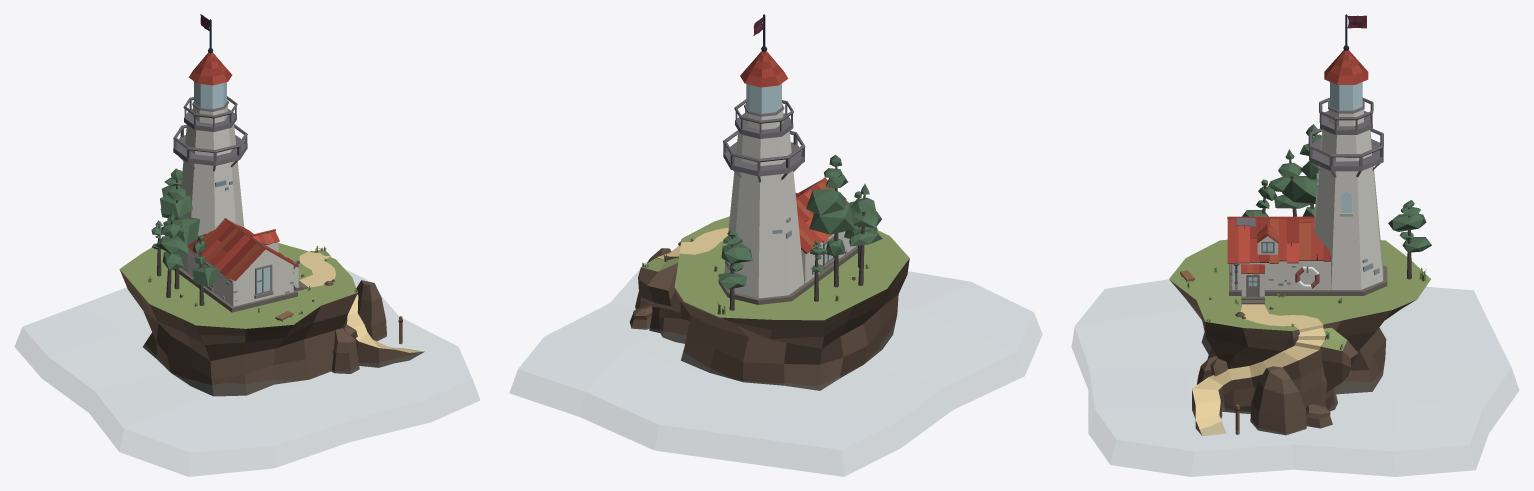
The model's file is Low-poly_Lighthouse.glb.
3 renders of one model, left to right at view 1: azimuth 30°, elevation 25°; view 2: azimuth 150°, elevation 25°; view 3: azimuth 270°, elevation 25°, orthographic. The views are drawn at different scales.
Parts seen in each view (by area): view 1: Cube.036_Water_0, Cube.001_Rock_0, Cube.001_Grass_0, Cylinder_Lighthouse_0, Cube.002_Lighthouse_0, Cube.001_Road_0, Cylinder.031_Rock_0, Cylinder.033_Rock_0, Cylinder.001_Balcon_0, Cylinder.004_Window_0, Cube.028_Poch_0, Icosphere.007_Leevs_0 (+4 smaller); view 2: Cube.036_Water_0, Cube.001_Rock_0, Cylinder_Lighthouse_0, Cube.001_Grass_0, Cube.127_Rock_0, Cylinder.001_Balcon_0, Cube.028_Poch_0, Cylinder.004_Window_0, Icosphere.007_Leevs_0, Cube.001_Road_0, Icosphere.006_Leevs_0, Cylinder.002_Balcon_0 (+3 smaller); view 3: Cube.036_Water_0, Cube.001_Rock_0, Cube.001_Grass_0, Cylinder_Lighthouse_0, Cube.001_Road_0, Cylinder.031_Rock_0, Cube.002_Lighthouse_0, Cube.127_Rock_0, Cylinder.001_Balcon_0, Cube.028_Poch_0, Cylinder.004_Window_0, Icosphere.007_Leevs_0 (+8 smaller).
Part boxes in pixels (box(x1,y1,x2,y2)): Cube.036_Water_0: box(15, 270, 479, 476); Cube.001_Rock_0: box(119, 269, 424, 396); Cube.001_Grass_0: box(119, 243, 357, 328); Cylinder_Lighthouse_0: box(181, 124, 244, 272); Cube.002_Lighthouse_0: box(187, 247, 293, 306); Cube.001_Road_0: box(299, 251, 423, 352); Cylinder.031_Rock_0: box(356, 280, 386, 341); Cylinder.033_Rock_0: box(331, 328, 359, 373); Cylinder.001_Balcon_0: box(173, 135, 247, 165); Cylinder.004_Window_0: box(194, 81, 226, 109); Cube.028_Poch_0: box(173, 267, 297, 312); Icosphere.007_Leevs_0: box(163, 216, 199, 245); Cube.036_Water_0: box(510, 262, 1042, 476); Cube.001_Rock_0: box(649, 239, 909, 390); Cylinder_Lighthouse_0: box(724, 131, 804, 298); Cube.001_Grass_0: box(674, 216, 909, 320); Cube.127_Rock_0: box(638, 263, 680, 312); Cylinder.001_Balcon_0: box(723, 142, 804, 176); Cube.028_Poch_0: box(718, 245, 857, 304); Cylinder.004_Window_0: box(746, 83, 781, 113); Icosphere.007_Leevs_0: box(809, 202, 855, 234); Cube.001_Road_0: box(657, 227, 728, 259); Icosphere.006_Leevs_0: box(806, 188, 846, 215); Cylinder.002_Balcon_0: box(735, 113, 793, 138); Cube.036_Water_0: box(1072, 279, 1518, 476); Cube.001_Rock_0: box(1170, 280, 1415, 435); Cube.001_Grass_0: box(1169, 239, 1430, 330); Cylinder_Lighthouse_0: box(1314, 129, 1383, 289); Cube.001_Road_0: box(1192, 304, 1325, 436); Cylinder.031_Rock_0: box(1250, 366, 1306, 435); Cube.002_Lighthouse_0: box(1232, 261, 1330, 289); Cube.127_Rock_0: box(1321, 340, 1358, 392); Cylinder.001_Balcon_0: box(1309, 139, 1383, 171); Cube.028_Poch_0: box(1229, 263, 1387, 295); Cylinder.004_Window_0: box(1330, 82, 1362, 110); Icosphere.007_Leevs_0: box(1282, 176, 1316, 203).
Size of the model in its own units: 2541 by 2387 by 2642.
